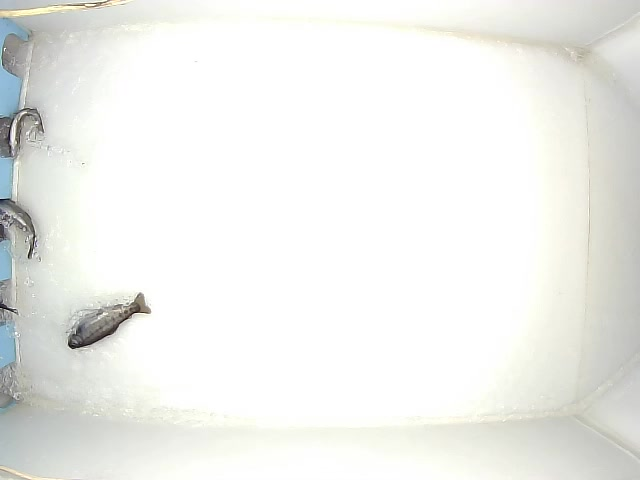fish: (67, 292, 152, 350), (1, 197, 35, 259), (8, 107, 45, 157)
